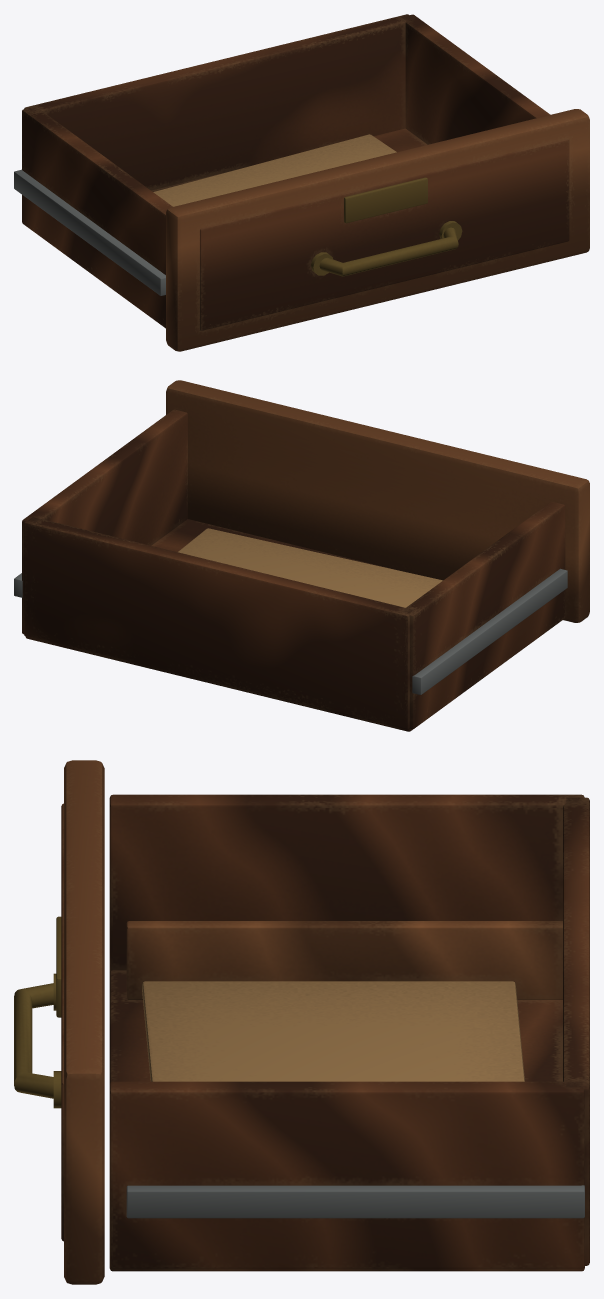
Rendered from CTCC_LOC02_DeskDrawer.fbx.
3 views of the same model, one above another, from view 1: azimuth 30°, elevation 25°; view 2: azimuth 150°, elevation 25°; view 3: azimuth 270°, elevation 25° (orthographic). The views are drawn at different scales.
Parts seen in each view (by area): view 1: CTCC_LOC02_DeskDrawer; view 2: CTCC_LOC02_DeskDrawer; view 3: CTCC_LOC02_DeskDrawer.
Boxes of the visible parts, x1,y1,x2,y2 form: CTCC_LOC02_DeskDrawer: (14, 14, 589, 351); CTCC_LOC02_DeskDrawer: (14, 380, 589, 731); CTCC_LOC02_DeskDrawer: (14, 760, 589, 1284).
Size of the model in its own units: 0.44 by 0.14 by 0.3394.
